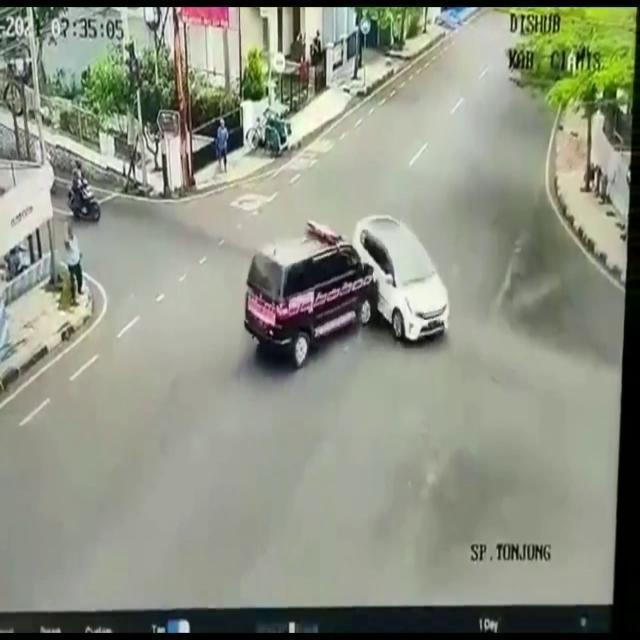car Accident: (231, 201, 473, 394)
